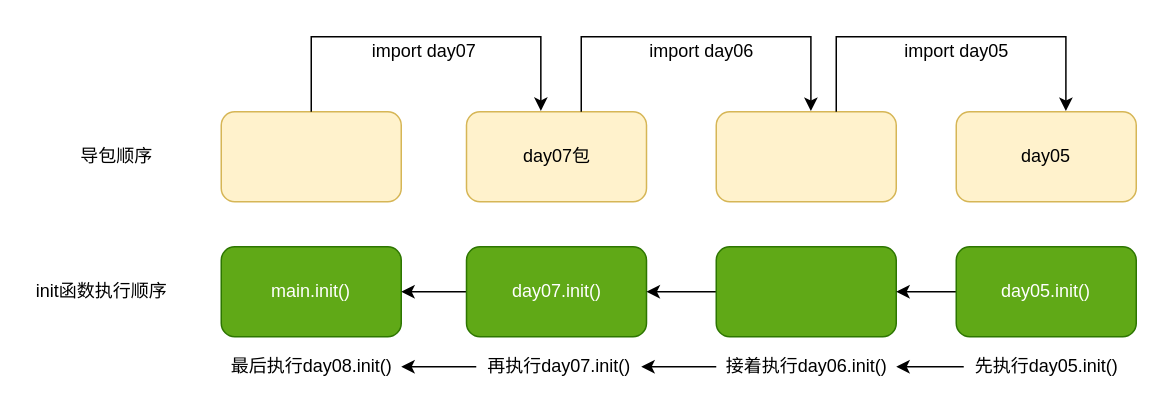
This 1163x408 diagram has some shape labels left out. The shapes that lost their labels are listed below. From the top down, each one's centre as x and y in pixels, then its label:
At pixel 310 156: "main包".
At pixel 805 156: "day06包".
At pixel 805 291: "day06.init()".
